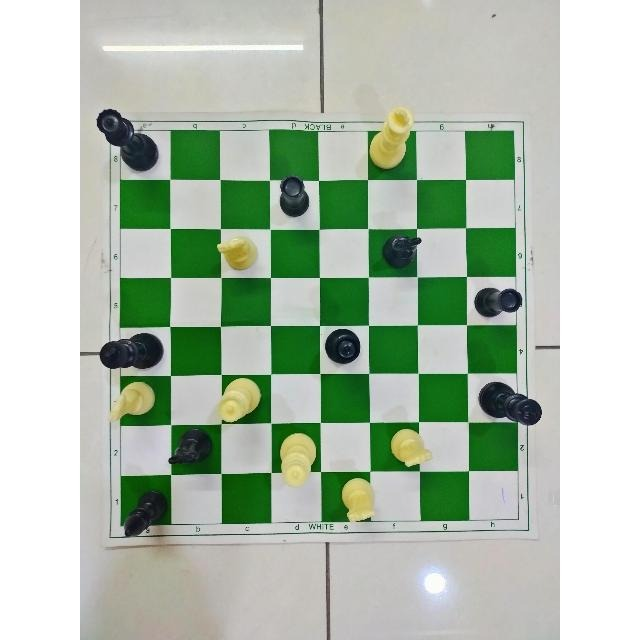black-bishop: (118, 487, 170, 549)
black-king: (471, 375, 546, 435), (94, 329, 166, 371)
black-knight: (163, 421, 217, 470), (376, 228, 425, 276)
black-queen: (89, 100, 165, 175), (321, 324, 369, 373)
black-rook: (464, 279, 527, 328), (269, 172, 315, 228)
white-king: (368, 96, 424, 182)
white-knight: (102, 377, 162, 433), (379, 426, 437, 473), (212, 229, 272, 273), (337, 476, 380, 532)
white-queen: (273, 423, 322, 488), (211, 374, 269, 426)
